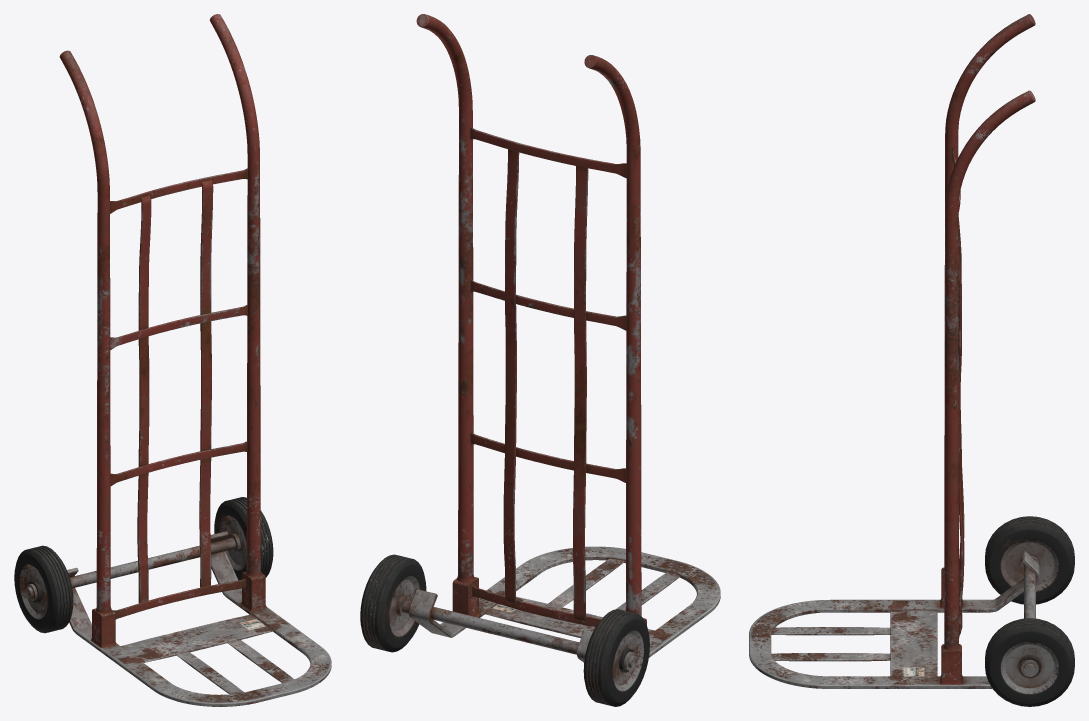
The picture shows the model from 3 angles, left to right: view 1: azimuth 30°, elevation 25°; view 2: azimuth 150°, elevation 25°; view 3: azimuth 270°, elevation 25°; orthographic projection. The views are drawn at different scales.
Parts seen in each view (by area): view 1: hand_truck; view 2: hand_truck; view 3: hand_truck.
Part boxes in pixels (<box>): hand_truck: <box>14,14,331,706</box>; hand_truck: <box>360,14,720,706</box>; hand_truck: <box>749,14,1074,706</box>.
Bounding box in the file's own units: 0.5933 × 1.4 × 0.6926.
Materials: 1 (1 with a texture image).
